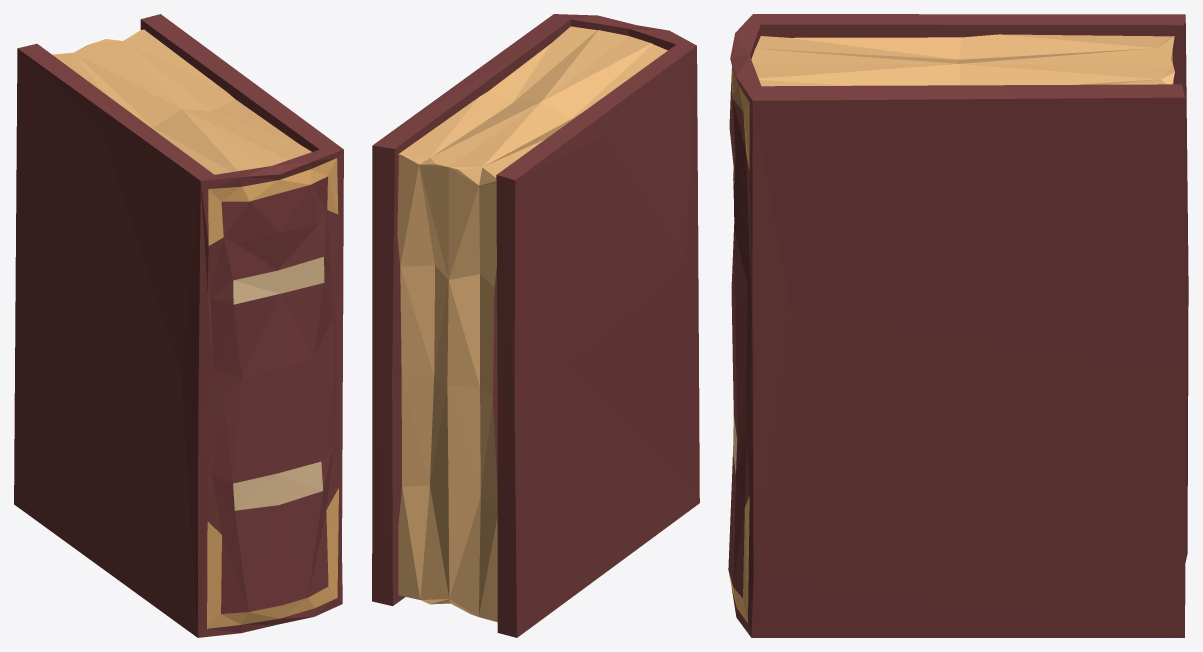
Rendered from SFHW_Book_030.fbx.
The picture shows the model from 3 angles, left to right: view 1: azimuth 30°, elevation 25°; view 2: azimuth 150°, elevation 25°; view 3: azimuth 270°, elevation 25°; orthographic projection. The views are drawn at different scales.
Parts seen in each view (by area): view 1: SFHW_Book_030; view 2: SFHW_Book_030; view 3: SFHW_Book_030.
Boxes of the visible parts, left/top/right/bottom form: SFHW_Book_030: left=14, top=14, right=343, bottom=637; SFHW_Book_030: left=372, top=14, right=699, bottom=637; SFHW_Book_030: left=728, top=14, right=1188, bottom=637.
Bounding box in the file's own units: 10.6 × 31.53 × 24.18.
